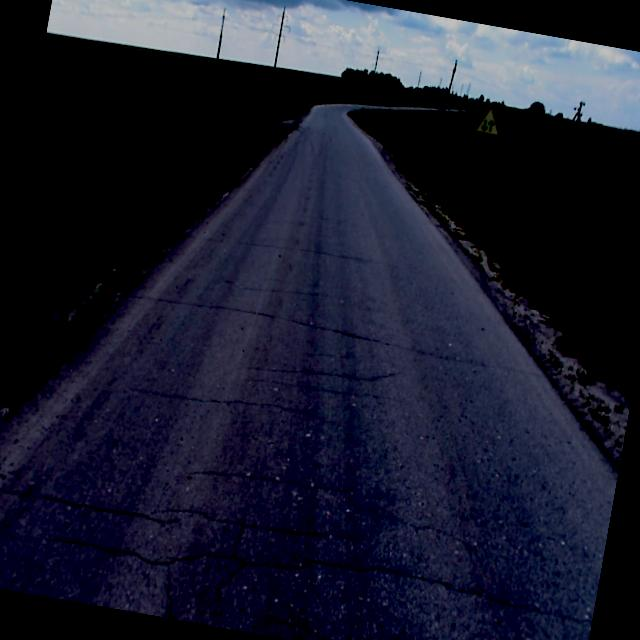road: (0, 105, 617, 640)
